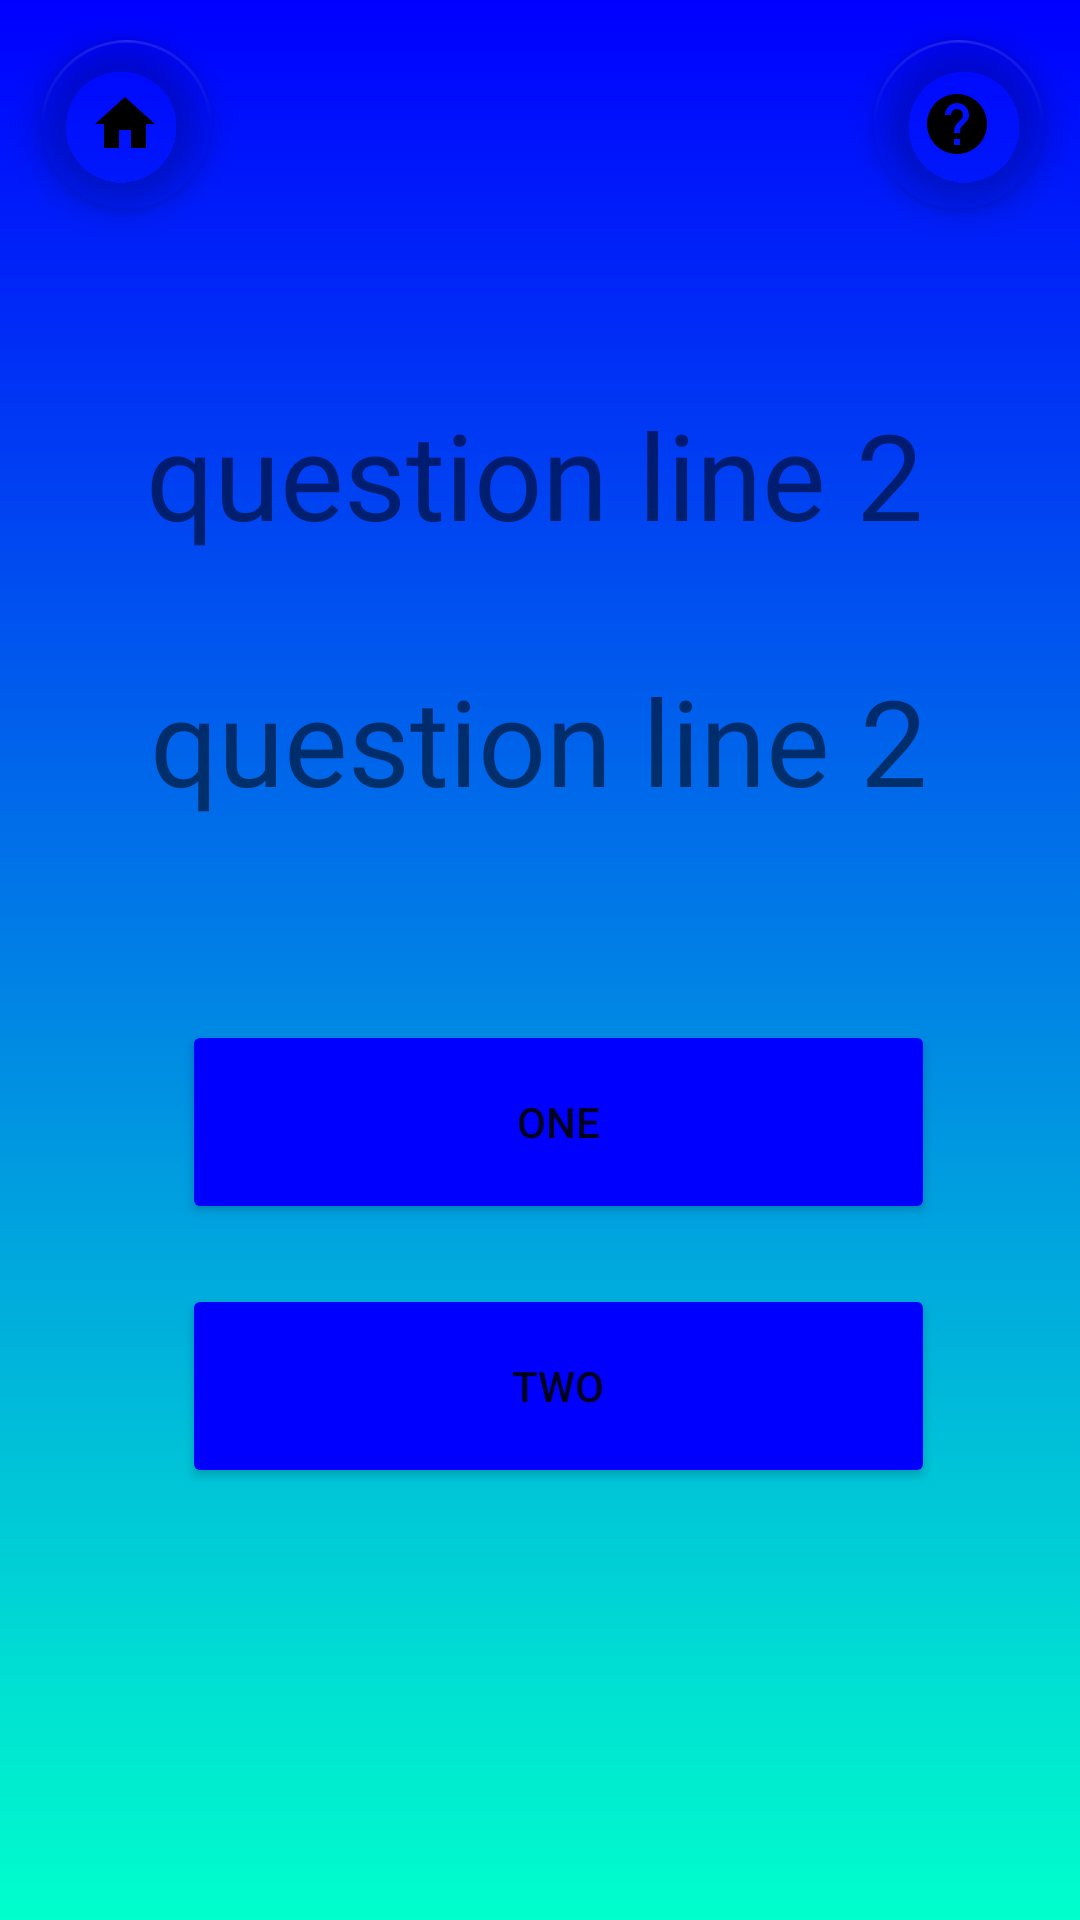

Screen size 1080 × 1920. Icon name, then its box in pixels as rect(x1, y1, x2, y2):
help: rect(874, 40, 1044, 211)
home: rect(41, 40, 212, 211)
